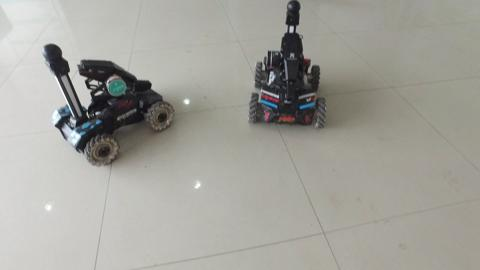chariot: (35, 41, 178, 168), (245, 1, 330, 131)
